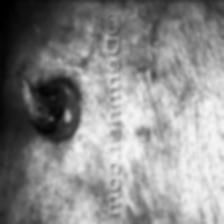Potentially Malignant Skin Tumors: (11, 64, 84, 157)
